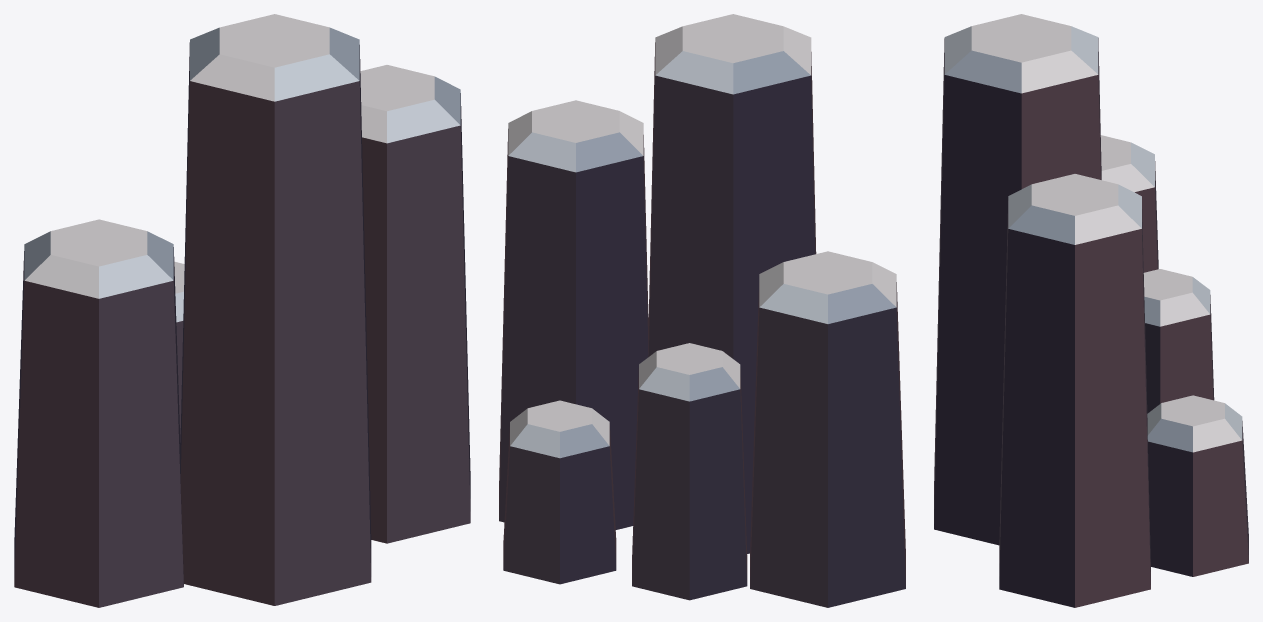
Rendered from column-cluster.glb.
3 renders of one model, left to right at view 1: azimuth 30°, elevation 25°; view 2: azimuth 150°, elevation 25°; view 3: azimuth 270°, elevation 25°, orthographic. The views are drawn at different scales.
Visible parts, largest first — view 1: column-cluster; view 2: column-cluster; view 3: column-cluster.
Part boxes in pixels (x1,y1,x2,y2): column-cluster: (14, 14, 470, 607); column-cluster: (499, 14, 905, 607); column-cluster: (934, 14, 1248, 607).
Size of the model in its own units: 3.87 by 4.26 by 2.59.
